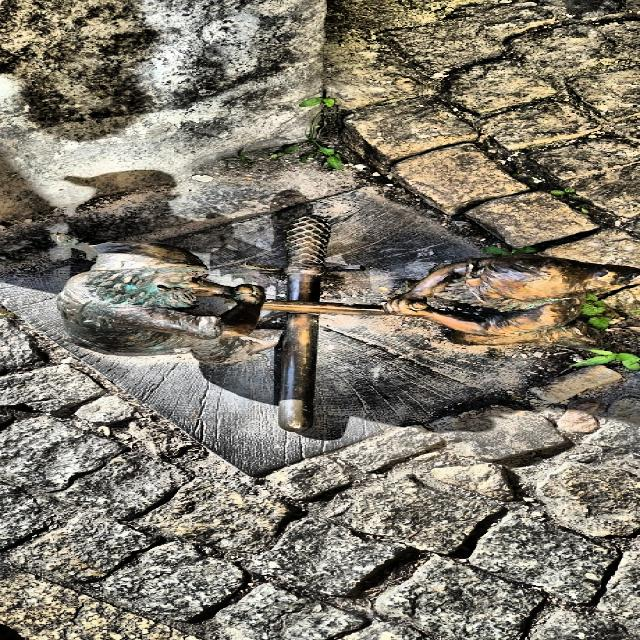Wyrostek i Zadymek: (55, 216, 638, 431)
